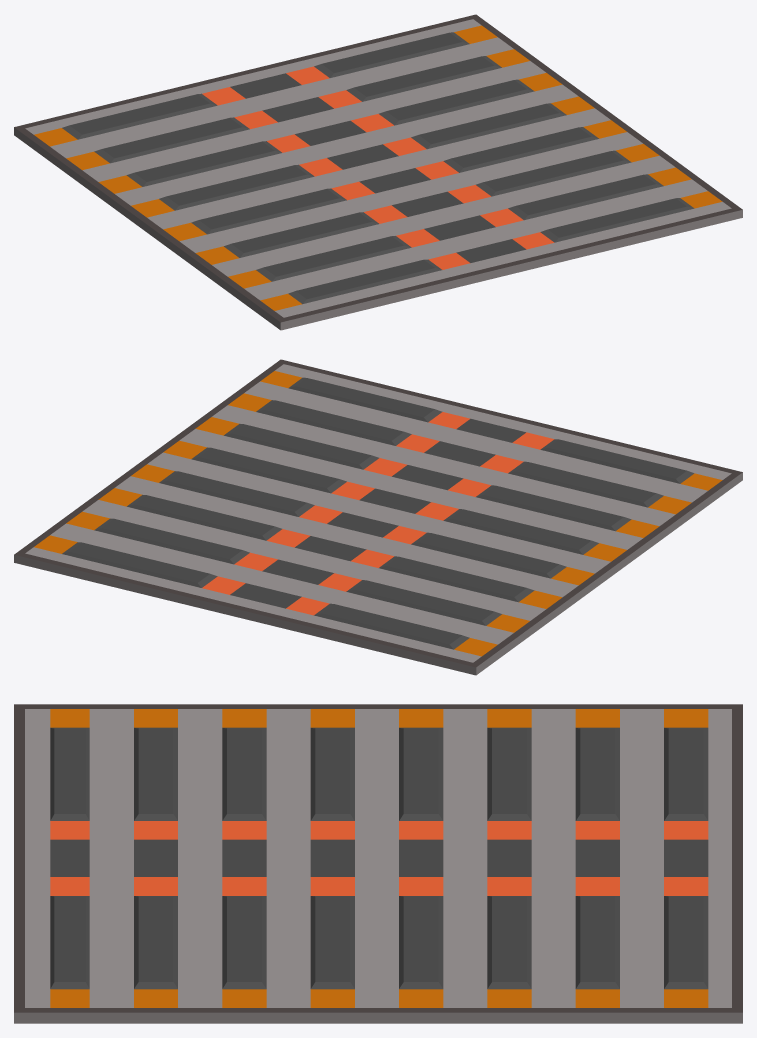
File: Floor_Module_02.glb
3 views of the same model, one above another, from view 1: azimuth 30°, elevation 25°; view 2: azimuth 150°, elevation 25°; view 3: azimuth 270°, elevation 25° (orthographic). The views are drawn at different scales.
Parts seen in each view (by area): view 1: Floor_Module_02; view 2: Floor_Module_02; view 3: Floor_Module_02.
Boxes of the visible parts, x1,y1,x2,y2 form: Floor_Module_02: [14, 14, 742, 330]; Floor_Module_02: [14, 359, 742, 675]; Floor_Module_02: [14, 704, 742, 1023].
Size of what is drawn, in the model's own units: 3 by 0.0647 by 3.
2 materials, 2 textured.
